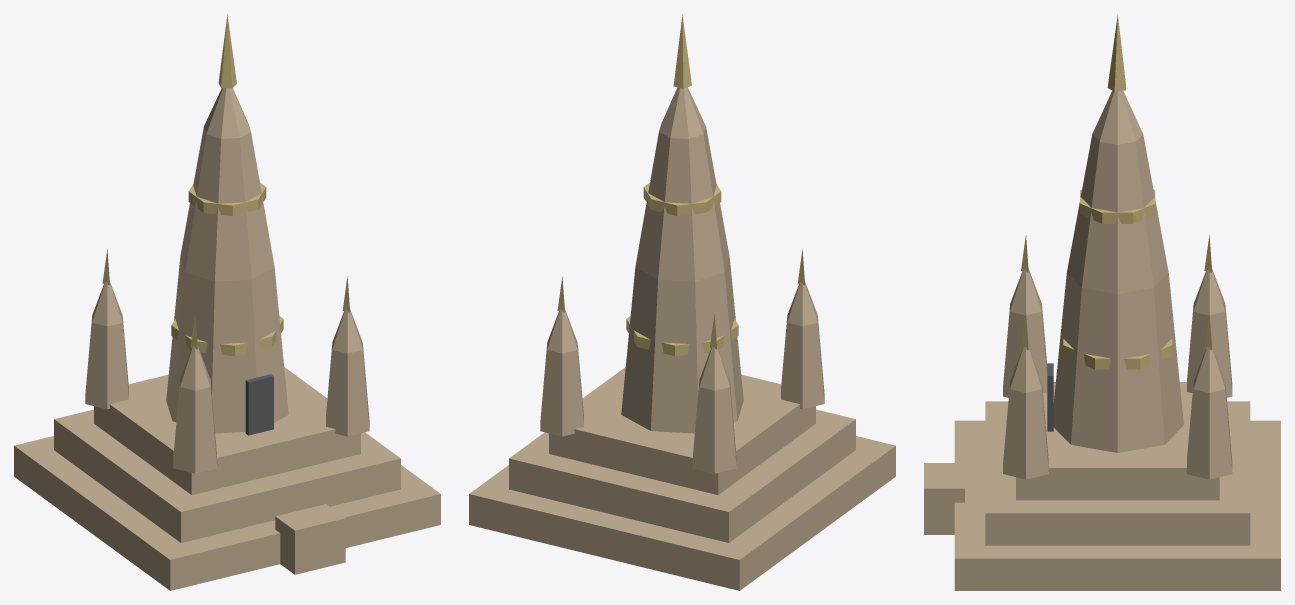
The model's file is national-grand-temple.glb.
3 views of the same model, side by side, from view 1: azimuth 30°, elevation 25°; view 2: azimuth 150°, elevation 25°; view 3: azimuth 270°, elevation 25° (orthographic). The views are drawn at different scales.
Parts seen in each view (by area): view 1: LOD0; view 2: LOD0; view 3: LOD0.
Part boxes in pixels (x1,y1,x2,y2): LOD0: (14,14,440,590); LOD0: (469,14,895,590); LOD0: (924,14,1280,590).
Size of what is drawn, in the model's own units: 0.32 by 0.55 by 0.35.
